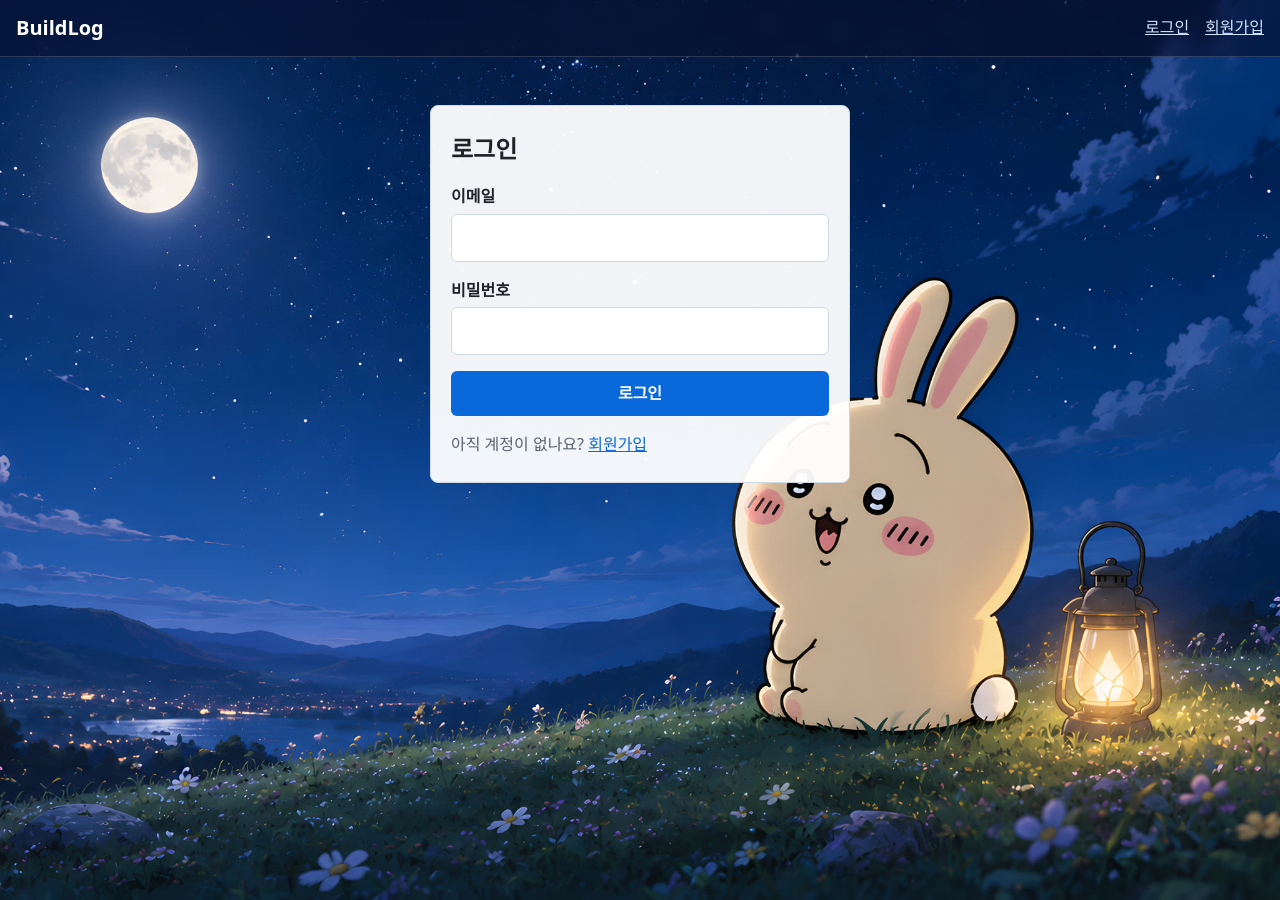
it: 로그인 › 실패하면 맞지 않는다고 알리고 이메일은 남기고 비밀번호만 지운다
The image size is (1280, 900).
Step 1. Type "user@example.com" into the field labelled "이메일" → (640, 238), box [451, 214, 829, 262]
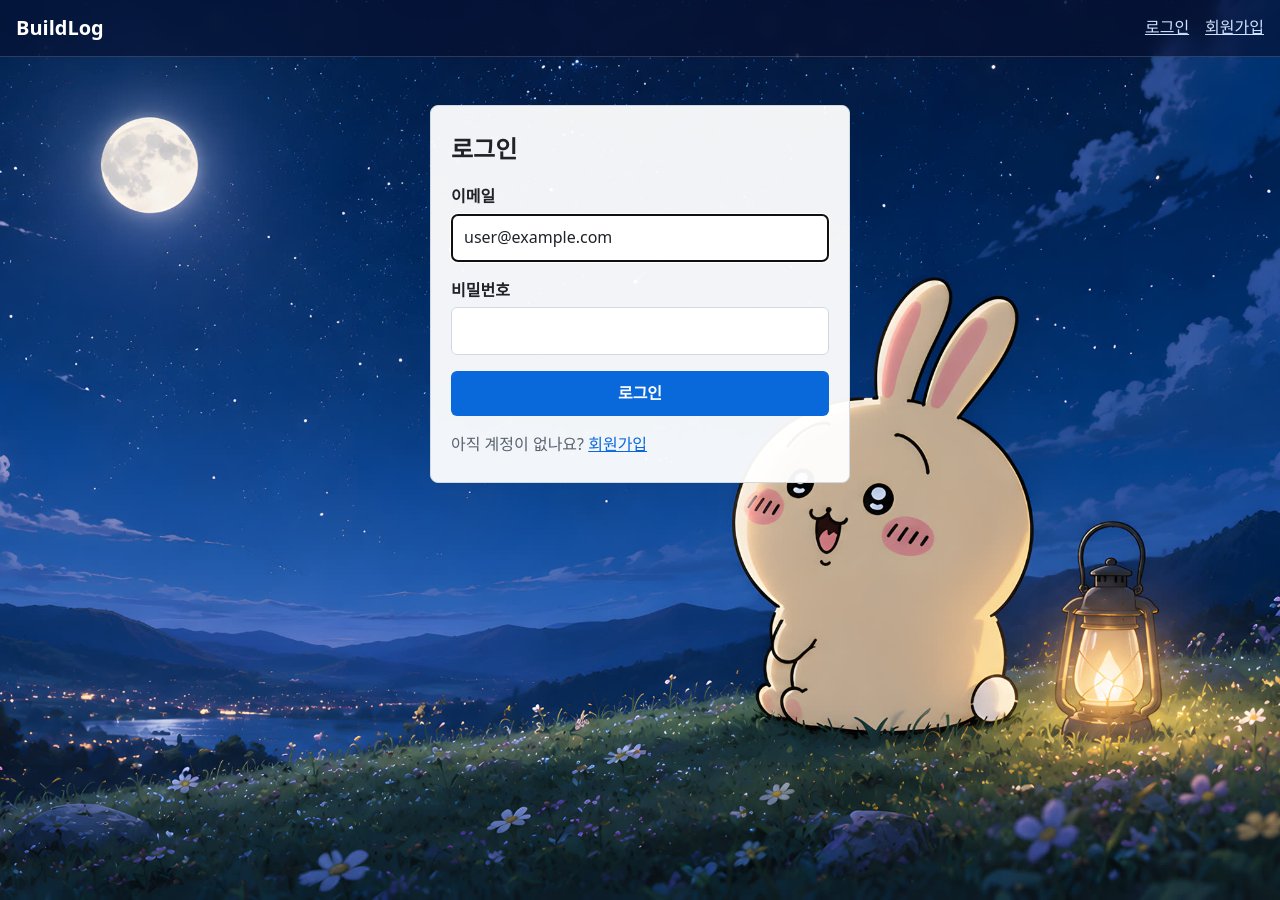
Step 2. Type "wrong-password" into the password field labelled "비밀번호" → (640, 331), box [451, 307, 829, 355]
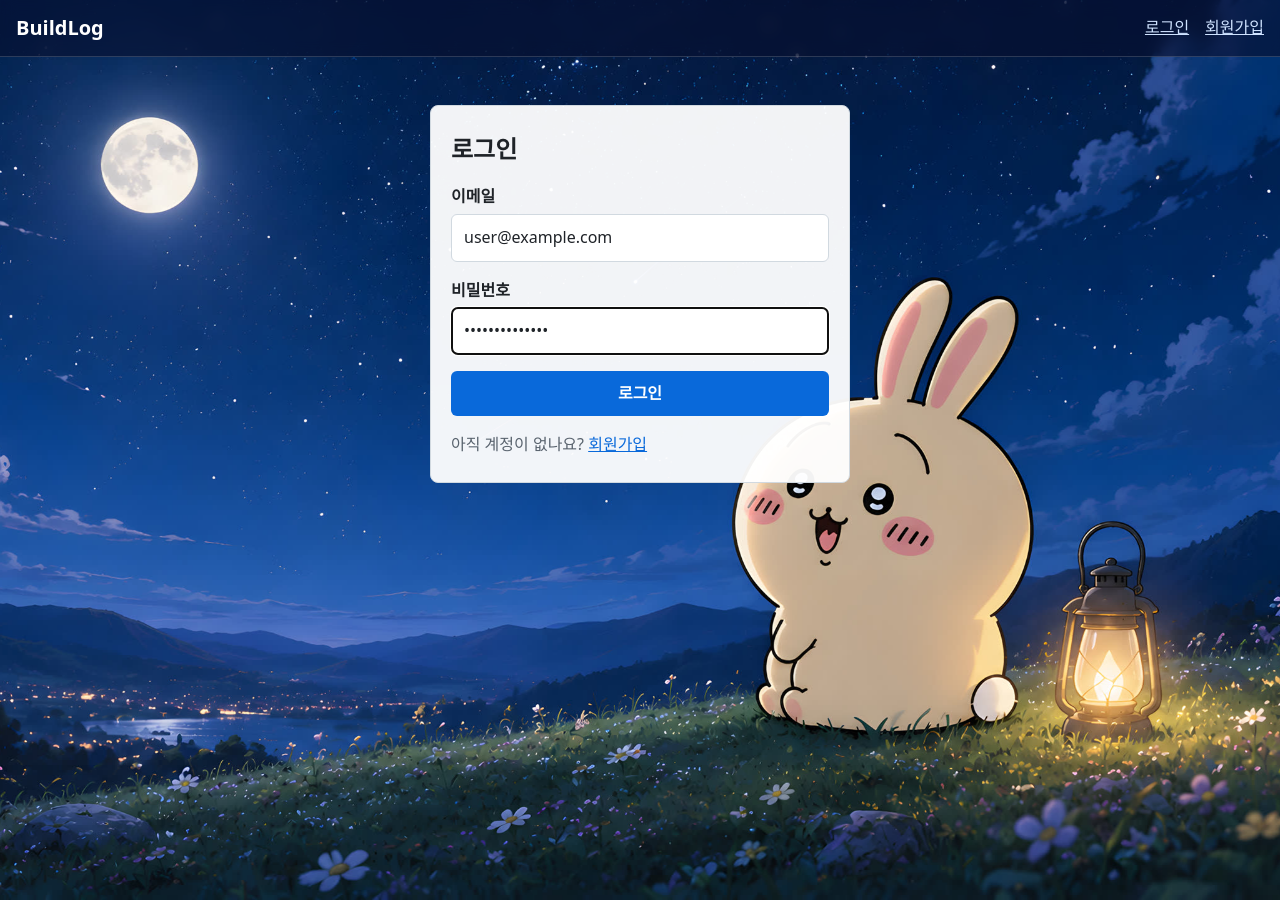
Step 3. Click the button "로그인" → (640, 394), box [451, 371, 829, 416]
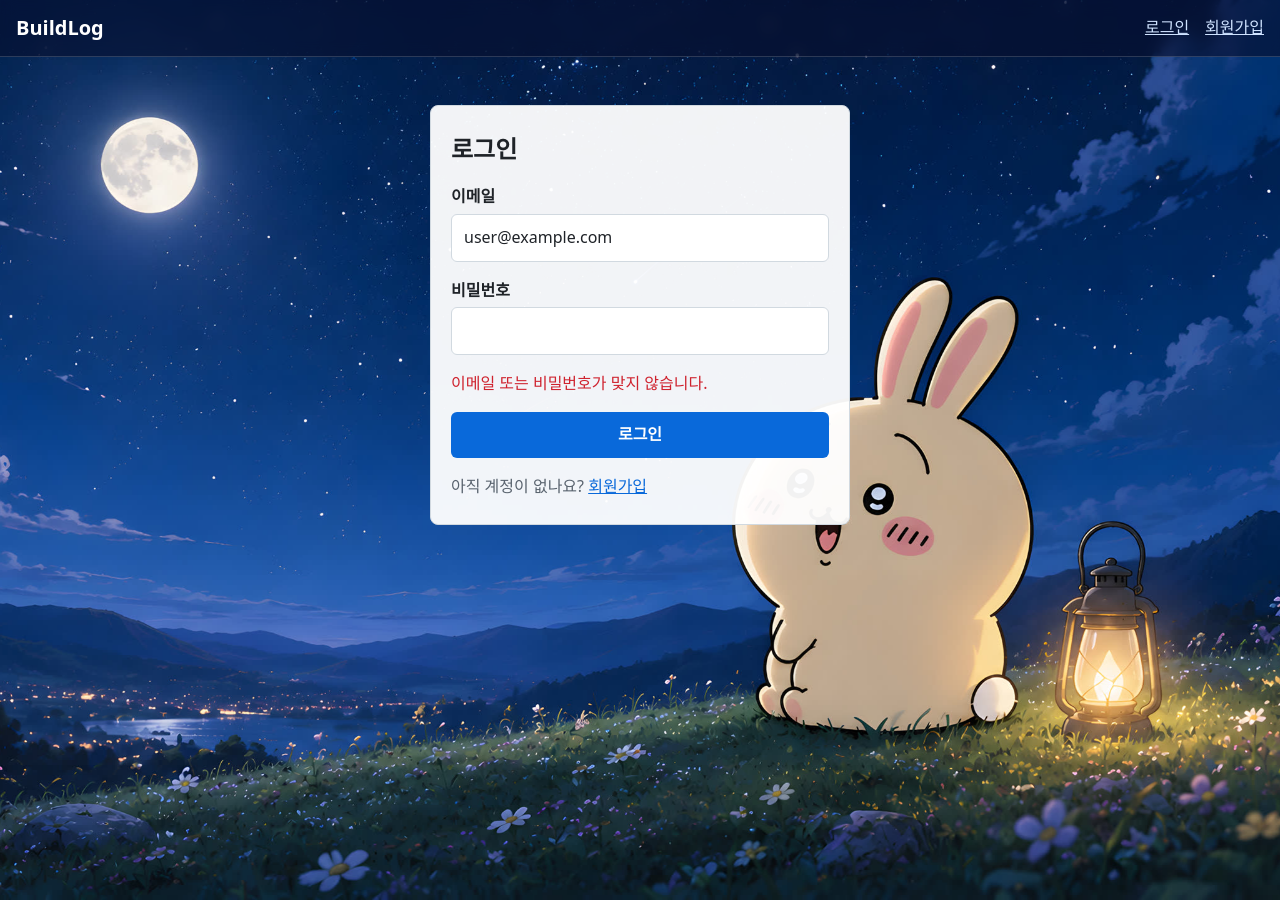
Now the message reads "이메일 또는 비밀번호가 맞지 않습니다.", box [451, 372, 708, 394]
Now the password field labelled "비밀번호" is empty, box [451, 307, 829, 355]
